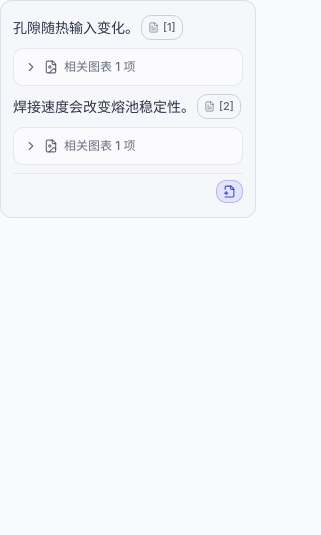
Scenario: MessageRenderer diagnostics › places independent figure disclosures beside the paragraph supported by each citation
Click the button "相关图表 1 项" below "孔隙随热输入变化。". click: (128, 67)
box: [14,49,242,85]
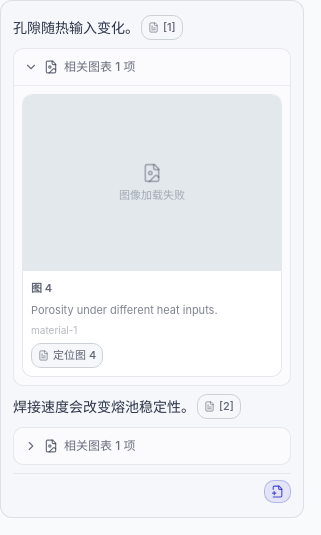
Expected: the button "相关图表 1 项" below "孔隙随热输入变化。" is expanded, [14,49,290,85]
Expected: the text "Porosity under different heat inputs." is shown, [31,303,218,317]
